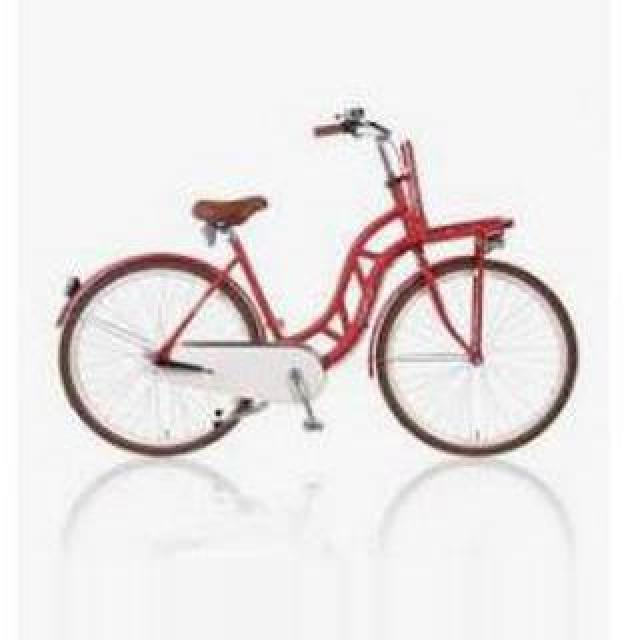Person: (50, 109, 582, 461)
